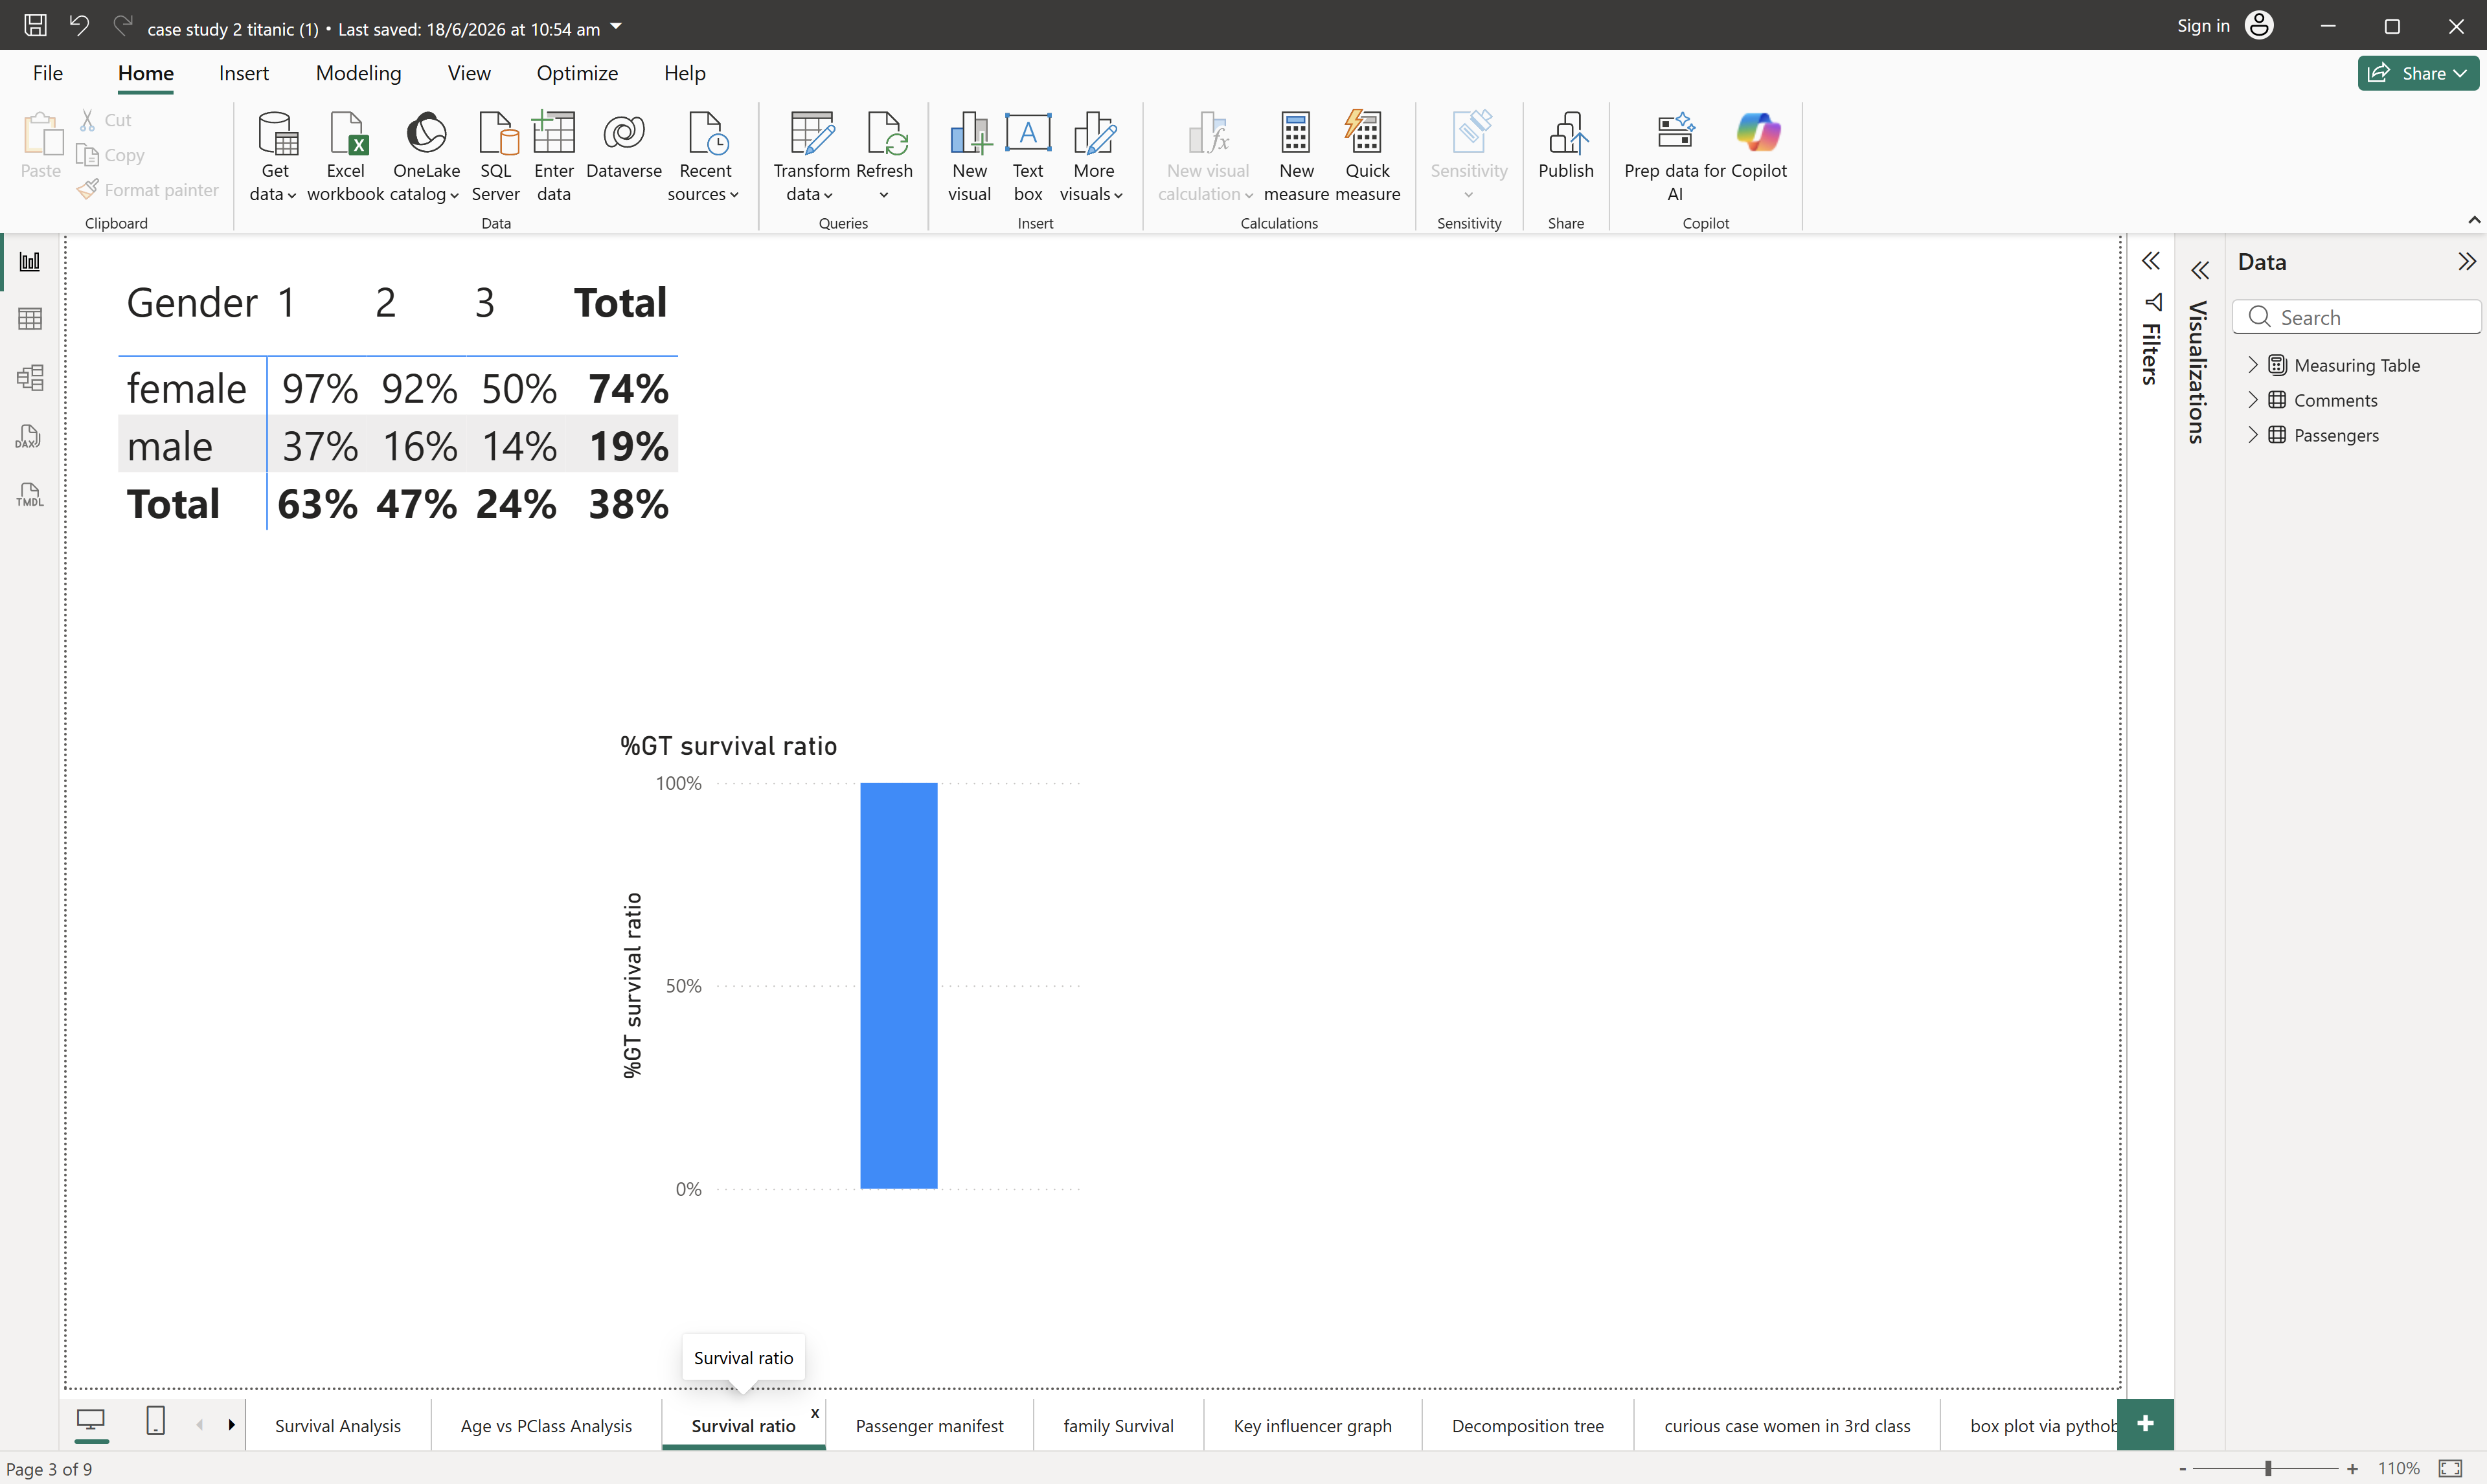

Layout of this report page (visuals, bound fields, positions):
{"tool":"powerbi","page":{"name":"Survival ratio","canvas":[1280,720],"ordinal":2},"visuals":[{"type":"pivotTable","fields":{"Rows":["Passengers.Gender"],"Columns":["Passengers.Pclass"],"Values":["Comments.survival ratio"]},"box":[27.2,18.1,378.9,188.9],"z":0},{"type":"clusteredColumnChart","fields":{"Y":["Comments.survival ratio"]},"box":[340,310,300,300],"z":1000}]}

Visuals, with their boxes on the page's 1280x720 design canvas (x1, y1, x2, y2). These are canvas units, not pixel positions in the 2487x1484 screenshot, which may show the page scaled, cropped or inside an application window:
pivotTable - Passengers.Gender x Passengers.Pclass: [x1=27, y1=18, x2=406, y2=207]
clusteredColumnChart - Comments.survival ratio: [x1=340, y1=310, x2=640, y2=610]
